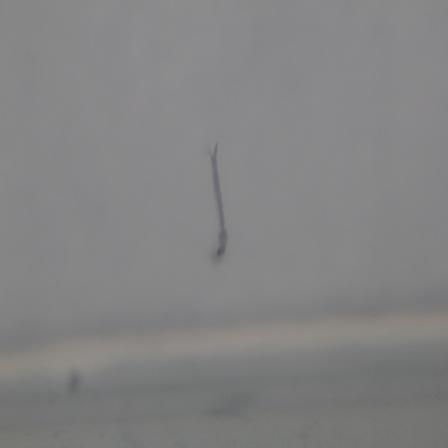Jentik-Nyamuk: (203, 137, 233, 263)
